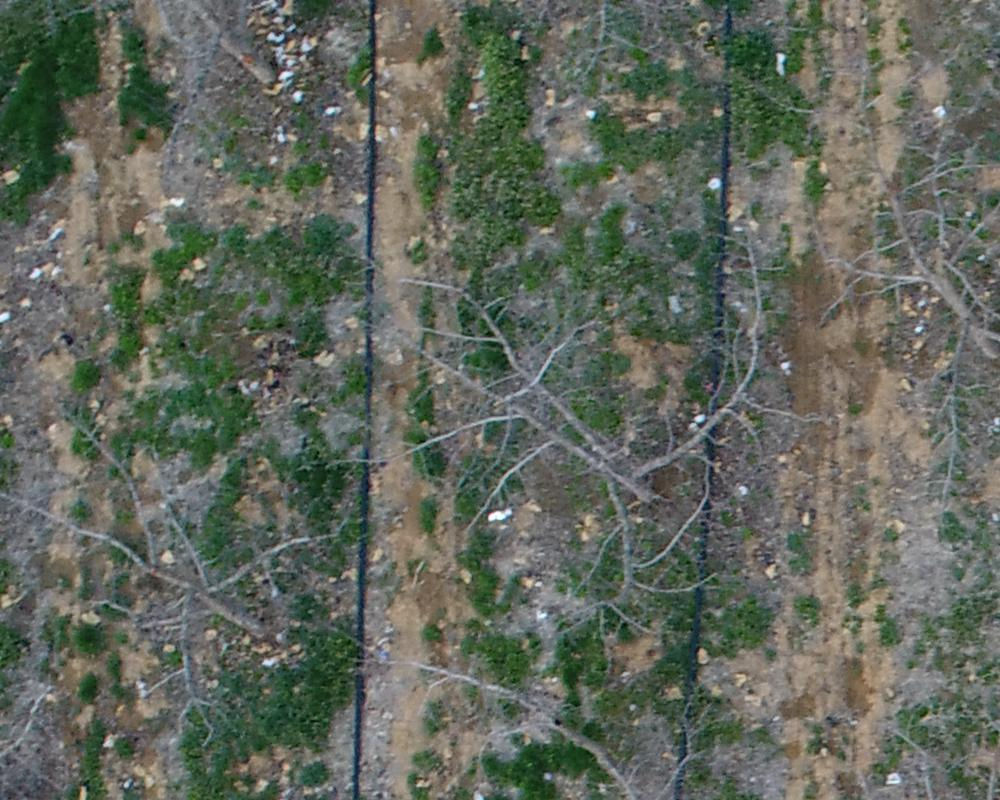apple: (371, 233, 838, 670), (10, 398, 363, 758), (790, 64, 990, 501), (386, 631, 846, 790)
